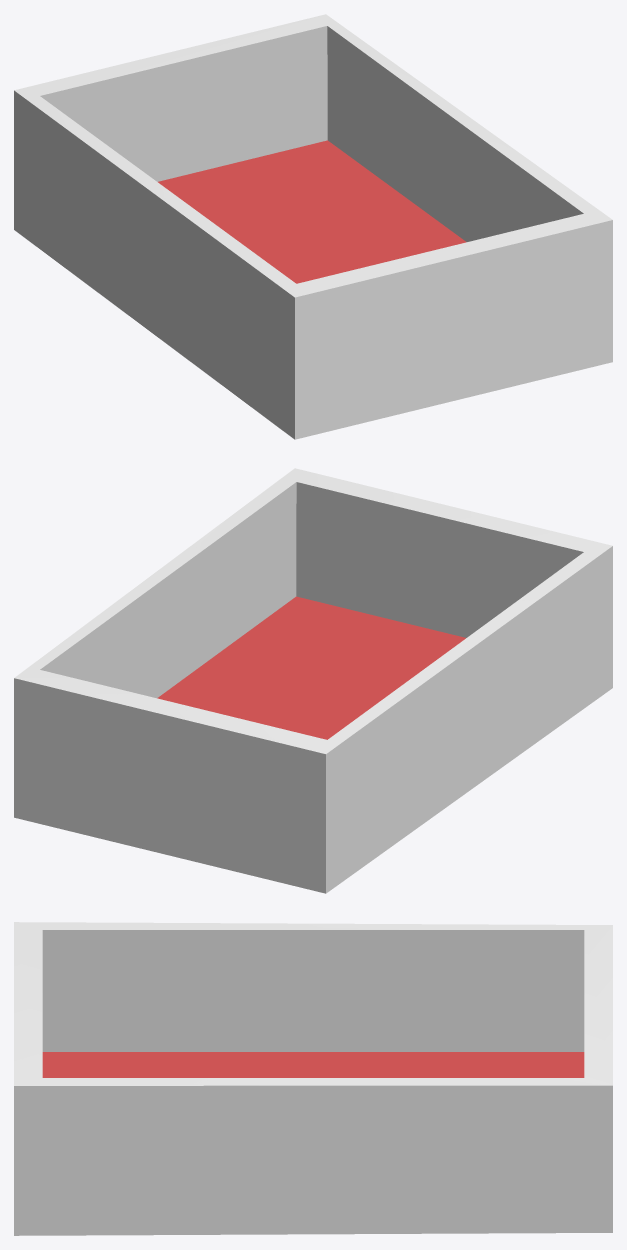
The model's file is Giftbox5-2.fbx.
The picture shows the model from 3 angles, top to bottom: view 1: azimuth 30°, elevation 25°; view 2: azimuth 150°, elevation 25°; view 3: azimuth 270°, elevation 25°; orthographic projection. The views are drawn at different scales.
Parts seen in each view (by area): view 1: Object008; view 2: Object008; view 3: Object008.
Part boxes in pixels (x1,y1,x2,y2): Object008: [14, 14, 612, 439]; Object008: [14, 468, 612, 893]; Object008: [14, 922, 612, 1235].
Size of the model in its own units: 14.52 by 6.2 by 22.45.
